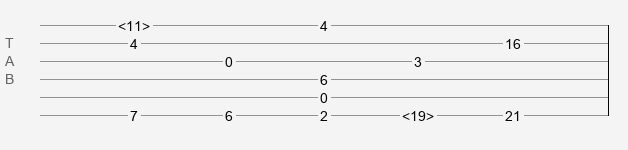0: (225, 54, 233, 64), (320, 90, 328, 100)
16: (505, 36, 521, 46)
2: (320, 108, 328, 118)
21: (505, 108, 521, 118)
3: (414, 54, 422, 64)
4: (130, 36, 138, 46), (320, 18, 328, 28)
6: (225, 108, 233, 118), (320, 72, 328, 82)
7: (130, 108, 138, 118)
harmonic: (118, 18, 150, 28), (402, 108, 434, 118)
